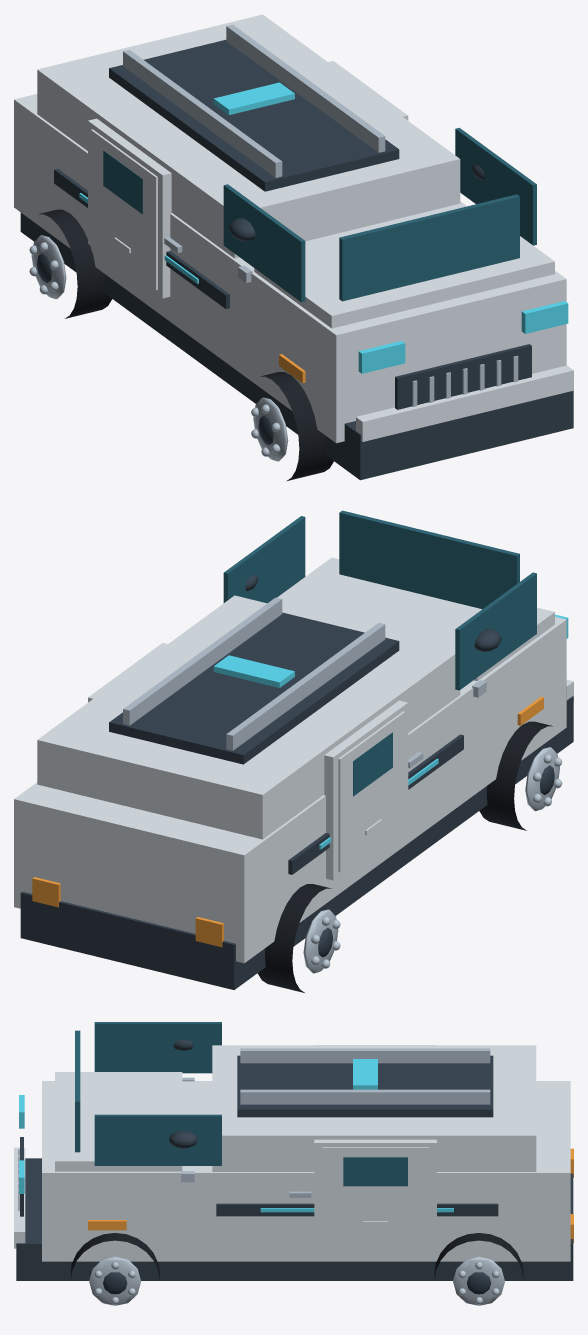
Rendered from service-vehicle.glb.
The picture shows the model from 3 angles, top to bottom: view 1: azimuth 30°, elevation 25°; view 2: azimuth 150°, elevation 25°; view 3: azimuth 270°, elevation 25°; orthographic projection. The views are drawn at different scales.
Parts seen in each view (by area): view 1: BodyWhite_vehicle_mesh, DarkGraphite_vehicle_mesh, Glass_vehicle_mesh, Metal_vehicle_mesh, door_left_panel, Rubber_vehicle_mesh, SignalCyan_vehicle_mesh, door_left_window; view 2: BodyWhite_vehicle_mesh, DarkGraphite_vehicle_mesh, Glass_vehicle_mesh, Metal_vehicle_mesh, door_left_panel, Rubber_vehicle_mesh, SignalCyan_vehicle_mesh, SignalAmber_vehicle_mesh, door_left_window; view 3: BodyWhite_vehicle_mesh, DarkGraphite_vehicle_mesh, Glass_vehicle_mesh, Metal_vehicle_mesh, door_right_panel, door_right_window, Rubber_vehicle_mesh, SignalCyan_vehicle_mesh, SignalAmber_vehicle_mesh.
Part boxes in pixels (x1,y1,x2,y2): BodyWhite_vehicle_mesh: [14, 14, 573, 443]; DarkGraphite_vehicle_mesh: [20, 40, 573, 480]; Glass_vehicle_mesh: [223, 127, 536, 302]; Metal_vehicle_mesh: [29, 24, 518, 461]; door_left_panel: [88, 118, 171, 298]; Rubber_vehicle_mesh: [38, 209, 333, 481]; SignalCyan_vehicle_mesh: [79, 82, 568, 373]; door_left_window: [103, 150, 142, 214]; BodyWhite_vehicle_mesh: [14, 557, 573, 963]; DarkGraphite_vehicle_mesh: [20, 574, 573, 989]; Glass_vehicle_mesh: [223, 510, 536, 690]; Metal_vehicle_mesh: [123, 597, 562, 973]; door_left_panel: [324, 700, 408, 880]; Rubber_vehicle_mesh: [257, 721, 552, 993]; SignalCyan_vehicle_mesh: [213, 614, 568, 849]; SignalAmber_vehicle_mesh: [32, 696, 543, 947]; door_left_window: [353, 732, 392, 796]; BodyWhite_vehicle_mesh: [14, 1045, 570, 1261]; DarkGraphite_vehicle_mesh: [16, 1040, 573, 1294]; Glass_vehicle_mesh: [75, 1022, 221, 1165]; Metal_vehicle_mesh: [18, 1048, 504, 1305]; door_right_panel: [314, 1139, 436, 1243]; door_right_window: [343, 1157, 407, 1186]; Rubber_vehicle_mesh: [71, 1233, 523, 1279]; SignalCyan_vehicle_mesh: [19, 1059, 453, 1212]; SignalAmber_vehicle_mesh: [88, 1148, 573, 1243].
Bounding box in the file's own units: 2.41 × 1.95 × 4.92.
